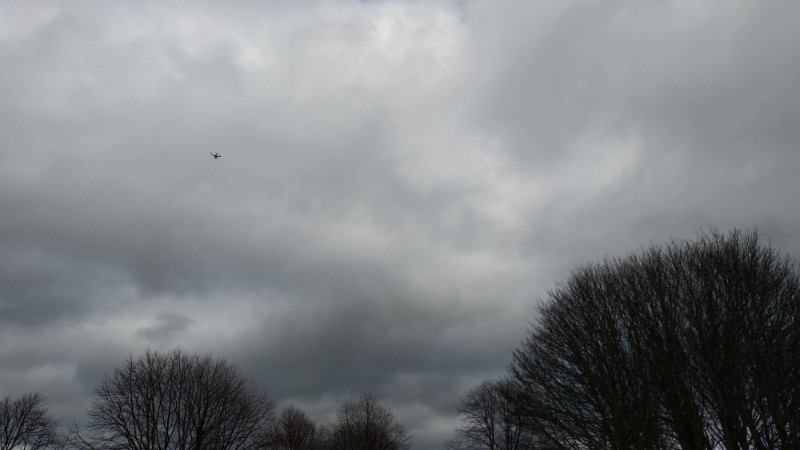drone: (209, 150, 222, 160)
